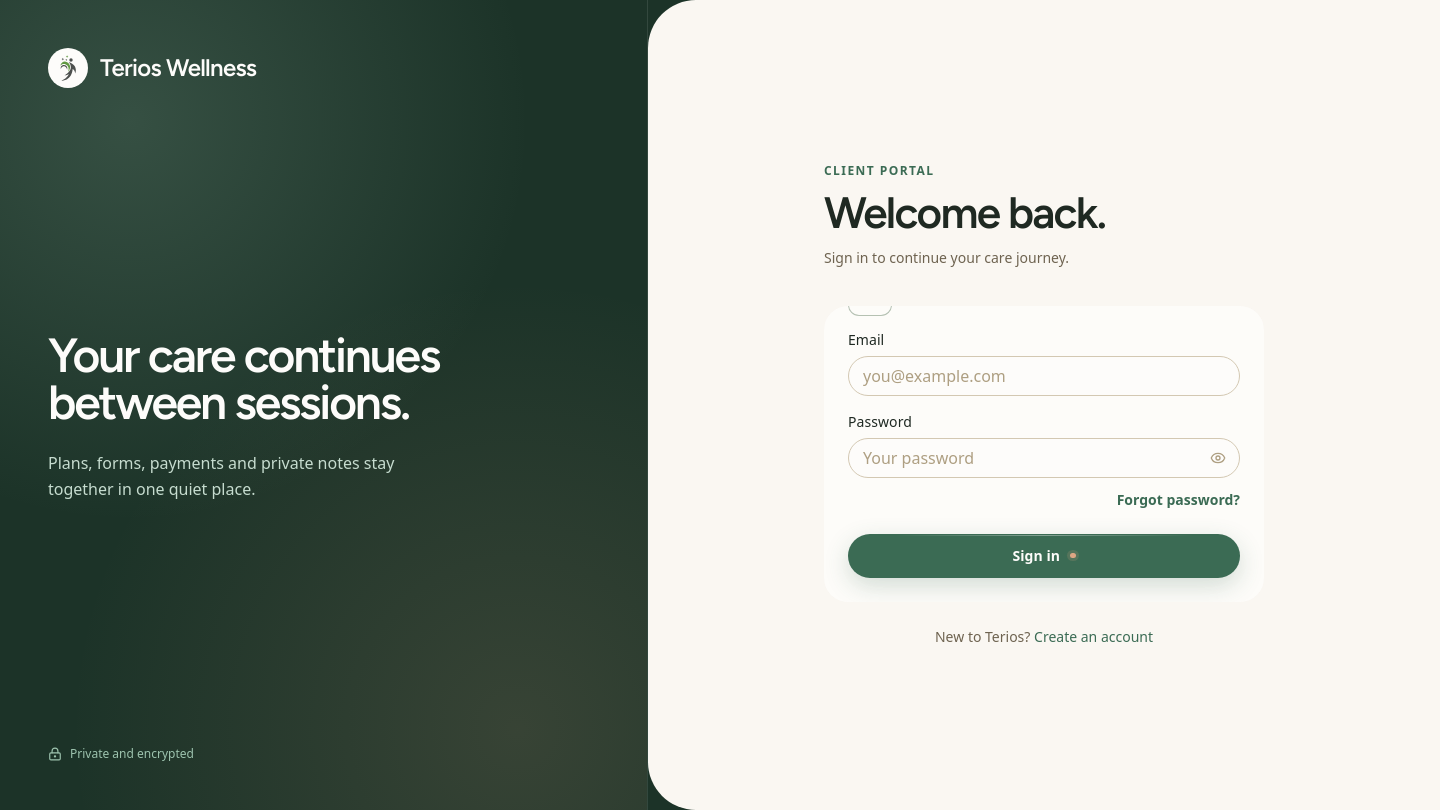
Test case: LoginPage › validates the email format with a branded message
Type "not-an-email" into the field labelled "Email" at (1044,376), box [848,356,1240,396]
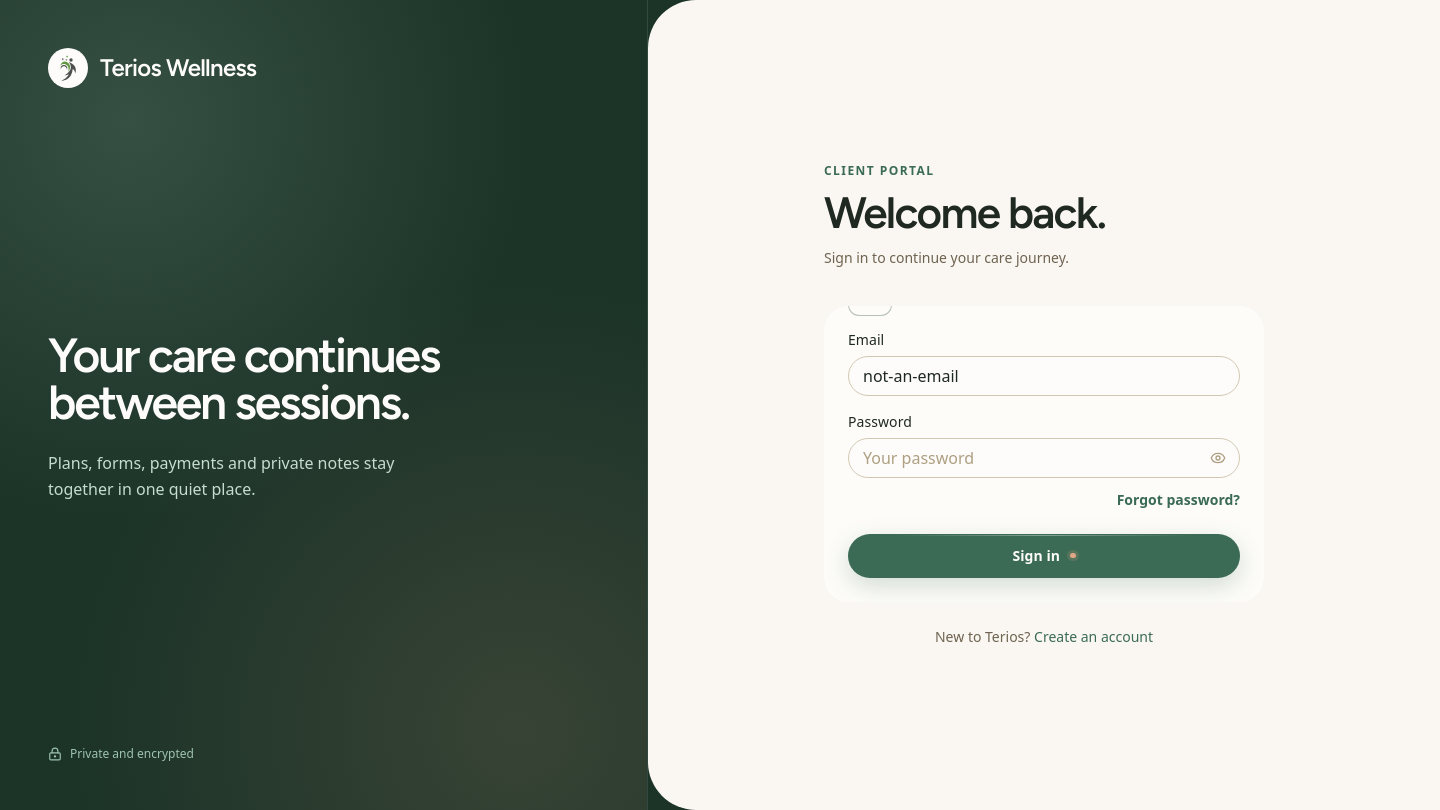
Type "secret" into the password field labelled "Password" at (1044,458), box [848,438,1240,478]
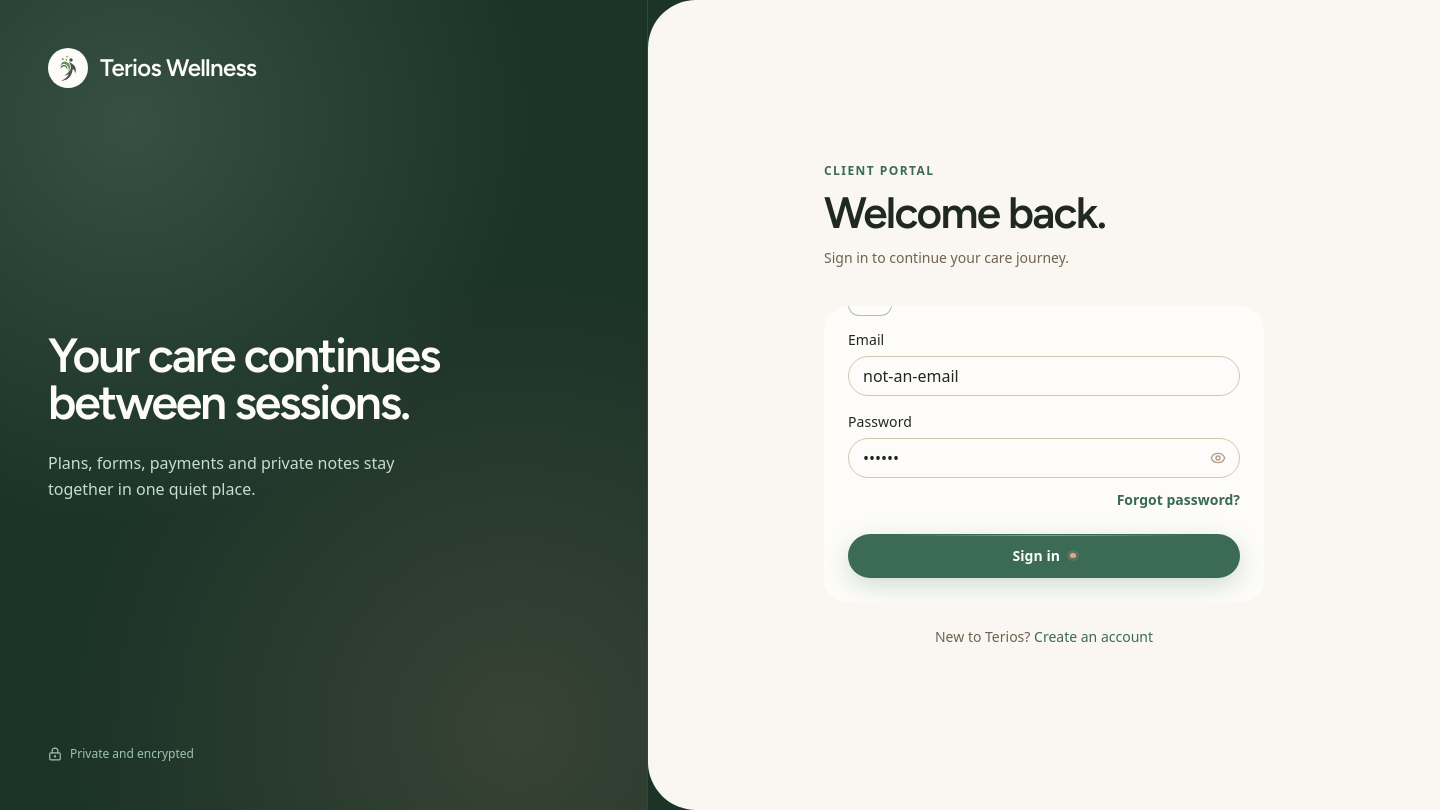
Submit the form "Sign in", box [848,330,1240,578]
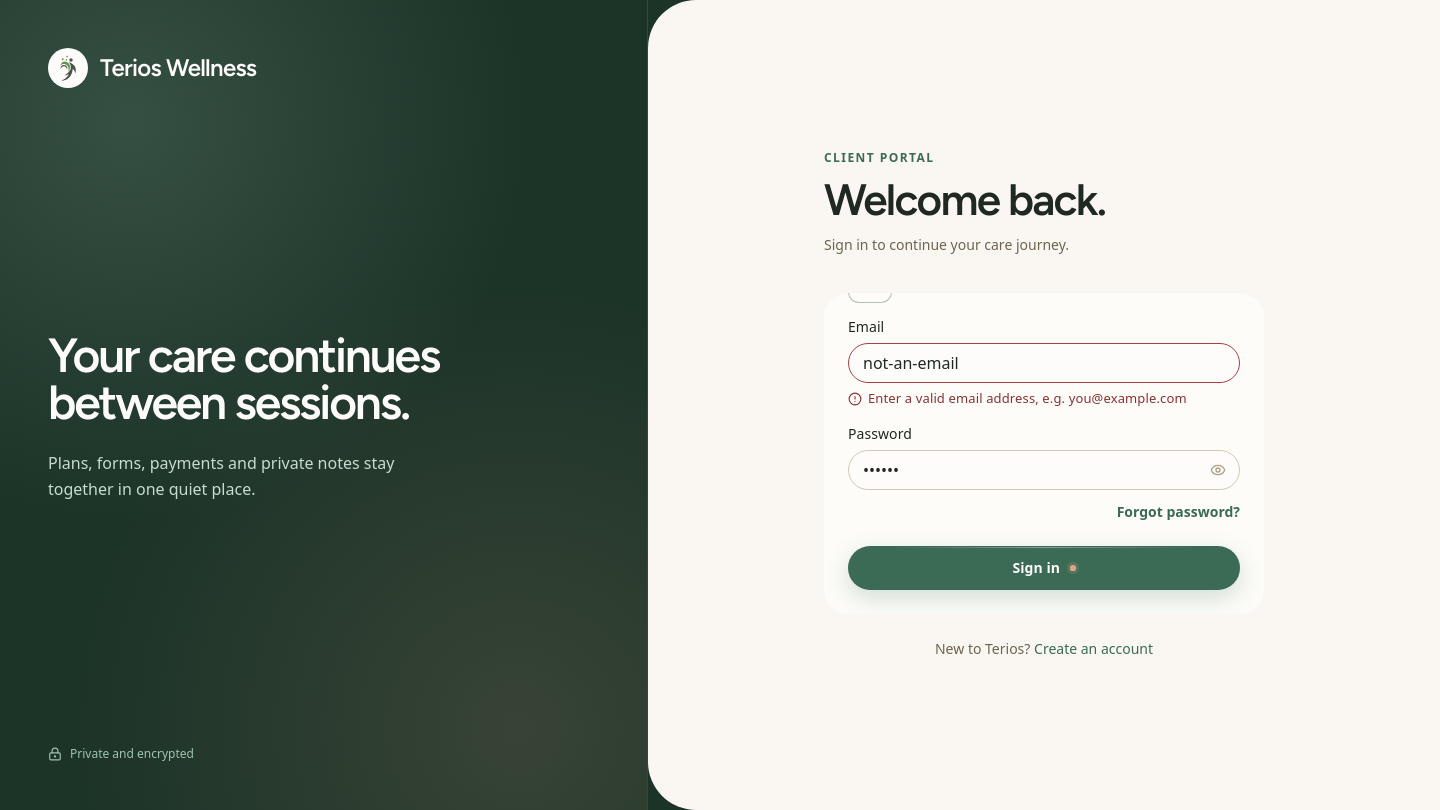
Result: the text "Enter a valid email address, e.g. you@example.com" is shown at [848,389,1240,408]
